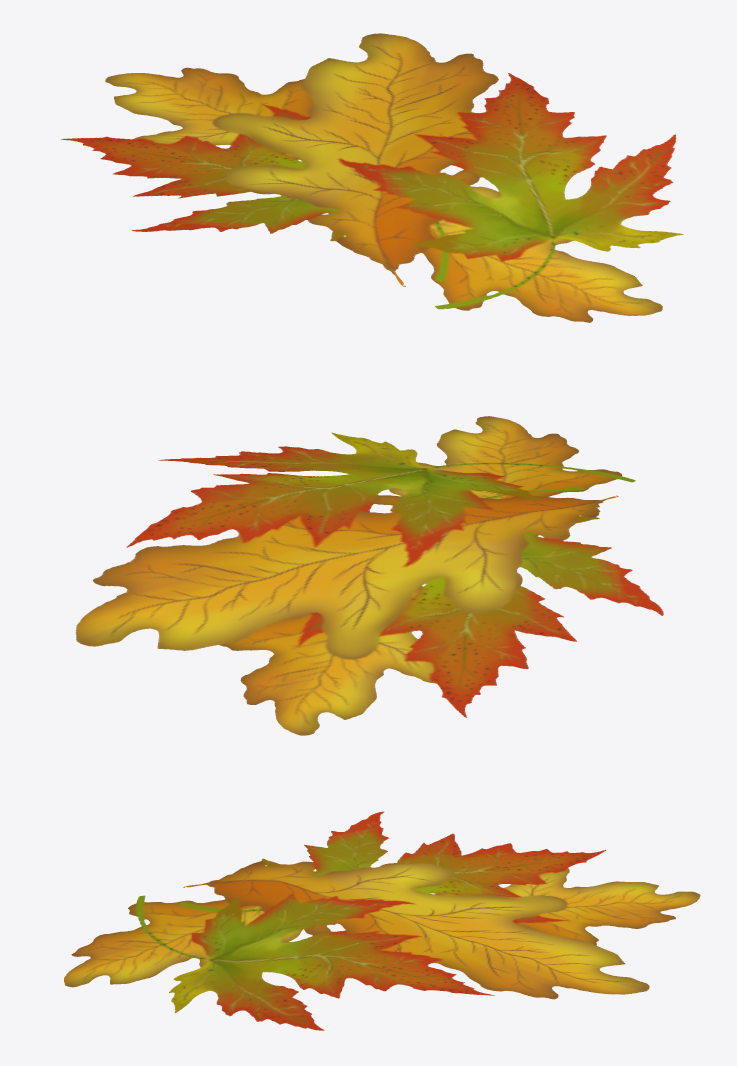
The model's file is dead_leaf_group_4.fbx.
3 views of the same model, one above another, from view 1: azimuth 30°, elevation 25°; view 2: azimuth 150°, elevation 25°; view 3: azimuth 270°, elevation 25° (orthographic). The views are drawn at different scales.
Visible parts, largest first — view 1: pPlane132; view 2: pPlane132; view 3: pPlane132.
Part boxes in pixels (x1,y1,x2,y2): pPlane132: [61, 33, 683, 322]; pPlane132: [75, 416, 663, 735]; pPlane132: [64, 811, 700, 1030].
Size of the model in its own units: 25.13 by 1.83 by 31.68.
